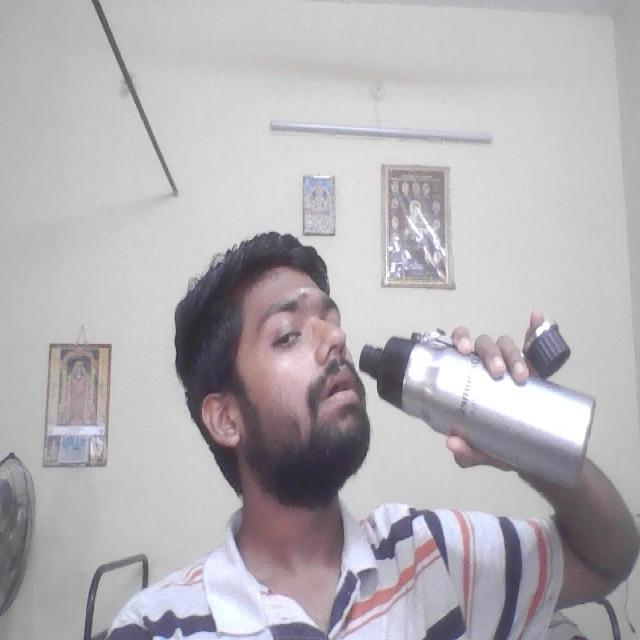Drinking: (351, 304, 608, 503)
